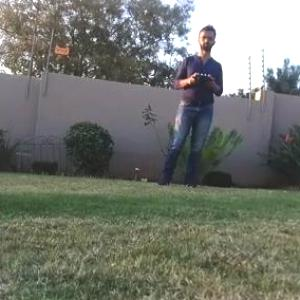follow: (151, 16, 225, 190)
